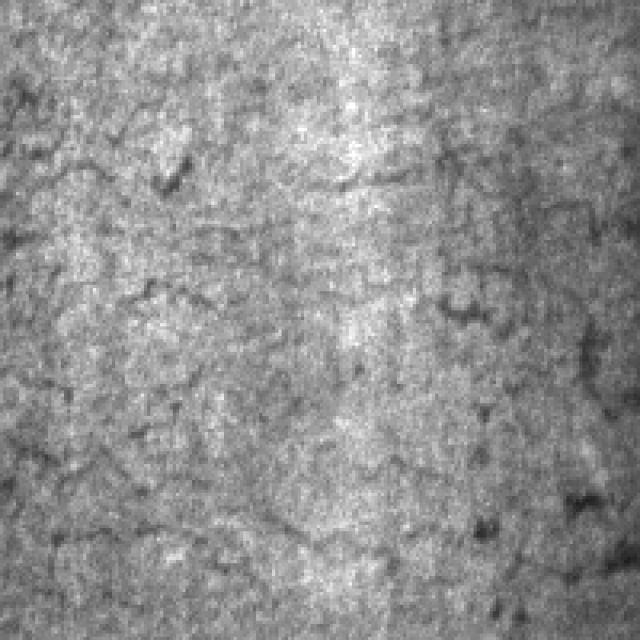crazing: (0, 54, 413, 314), (400, 90, 630, 412), (0, 339, 272, 608)
